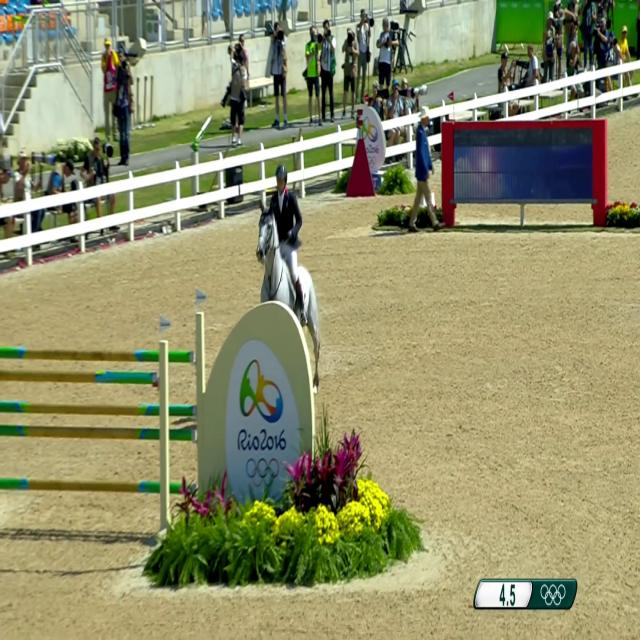Horse Rider: (266, 139, 301, 254)
Horse Running: (252, 204, 338, 402)
